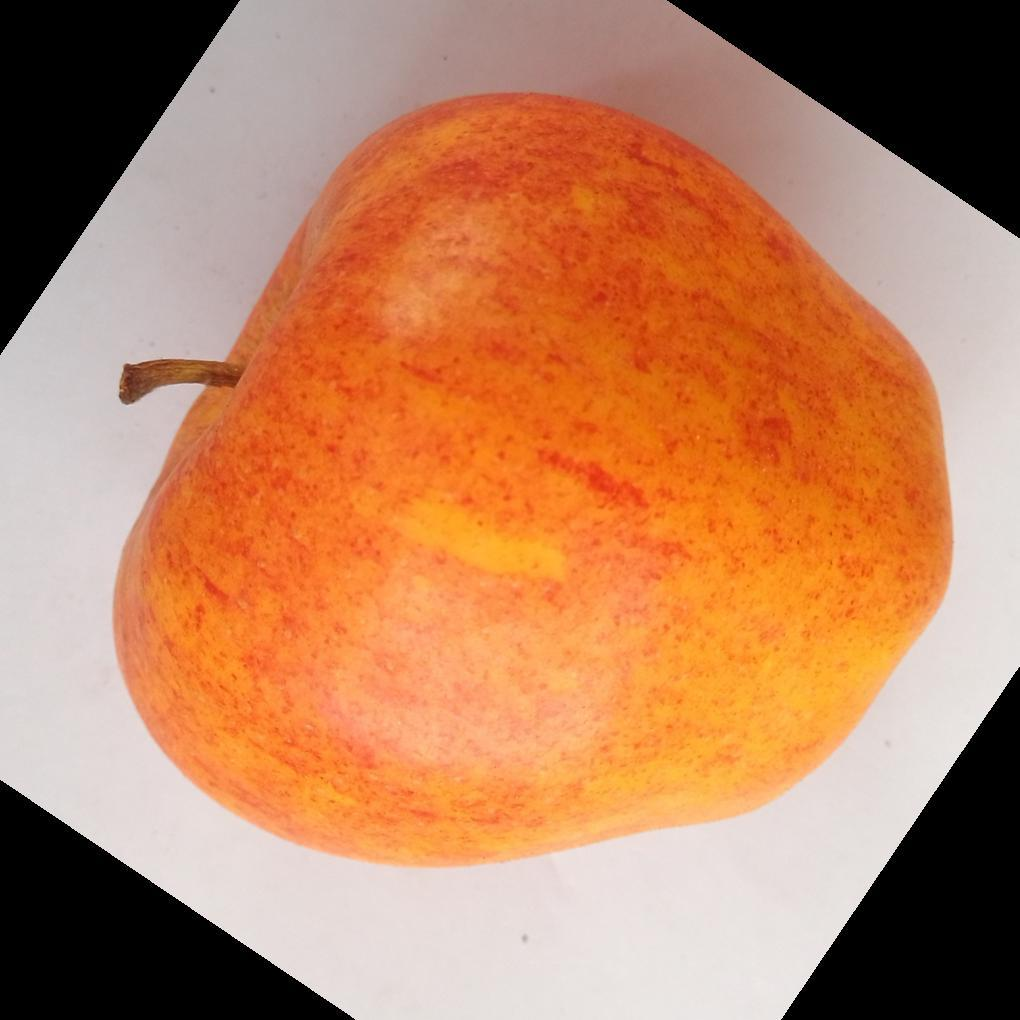FreshGuava: (108, 93, 954, 873)
